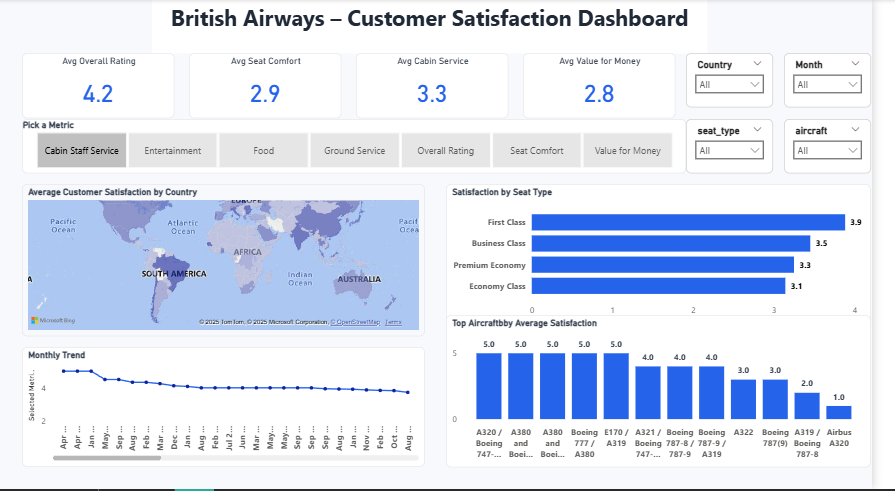

This screenshot's page, from the dashboard's own definition file:
{"tool":"powerbi","page":{"name":"Page 1","canvas":[1280,720],"ordinal":0},"visuals":[{"type":"textbox","box":[224,0,816,80],"z":0},{"type":"card","title":"Avg Overall Rating","fields":{"Values":["ba_reviews.Avg Overall Rating"]},"box":[32,80,224,96],"z":1000},{"type":"card","title":"Avg Seat Comfort","fields":{"Values":["ba_reviews.Avg Seat Comfort"]},"box":[277.3,80,224,96],"z":2000},{"type":"card","title":"Avg Cabin Service","fields":{"Values":["ba_reviews.Avg Cabin Service"]},"box":[522.7,80,224,96],"z":3000},{"type":"card","title":"Avg Value for Money","fields":{"Values":["ba_reviews.Avg Value for Money"]},"box":[768,80,224,96],"z":4000},{"type":"slicer","title":"     Pick a Metric","fields":{"Values":["Metric Selector.Metric"]},"box":[32,176,976,80],"z":5000},{"type":"filledMap","title":"Average Customer Satisfaction by Country","fields":{"Category":["Countries.Country"]},"box":[32,272,592,224],"z":6000},{"type":"lineChart","title":"Monthly Trend","fields":{"Category":["ba_reviews.Month Year"],"Y":["ba_reviews.Selected Metric Value"]},"box":[16,512,592,176],"z":7000},{"type":"clusteredBarChart","title":"Satisfaction by Seat Type","fields":{"Category":["ba_reviews.seat_type"],"Y":["ba_reviews.Selected Metric Value"]},"box":[656,272,624,208],"z":8000},{"type":"clusteredColumnChart","title":"Top Aircraftbby Average Satisfaction","fields":{"Category":["ba_reviews.aircraft"],"Y":["ba_reviews.Selected Metric Value"]},"box":[656,464,624,224],"z":9000},{"type":"slicer","fields":{"Values":["Countries.Country"]},"box":[1008,80,128,80],"z":10000},{"type":"slicer","fields":{"Values":["ba_reviews.Month Year"]},"box":[1152,80,128,80],"z":11000},{"type":"slicer","fields":{"Values":["ba_reviews.seat_type"]},"box":[1008,176,128,80],"z":12000},{"type":"slicer","fields":{"Values":["ba_reviews.aircraft"]},"box":[1152,176,128,80],"z":13000}]}

Visuals, with their boxes in screenshot pixels (x1, y1, x2, y2), scaled from the page's 1280x720 canvas onto the 895x491 screenshot:
textbox: 157:0:727:55
"Avg Overall Rating" card: 22:55:179:120
"Avg Seat Comfort" card: 194:55:351:120
"Avg Cabin Service" card: 365:55:522:120
"Avg Value for Money" card: 537:55:694:120
"     Pick a Metric" slicer: 22:120:705:175
"Average Customer Satisfaction by Country" filledMap: 22:185:436:338
"Monthly Trend" lineChart: 11:349:425:469
"Satisfaction by Seat Type" clusteredBarChart: 459:185:894:327
"Top Aircraftbby Average Satisfaction" clusteredColumnChart: 459:316:894:469
slicer - Countries.Country: 705:55:794:109
slicer - ba_reviews.Month Year: 806:55:894:109
slicer - ba_reviews.seat_type: 705:120:794:175
slicer - ba_reviews.aircraft: 806:120:894:175
